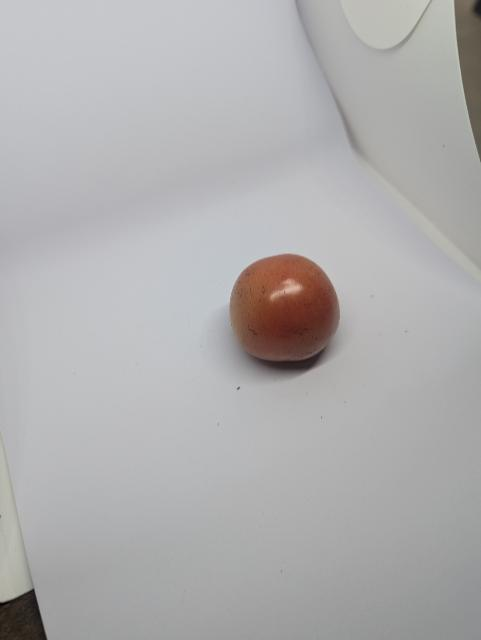red: (224, 243, 353, 374)
